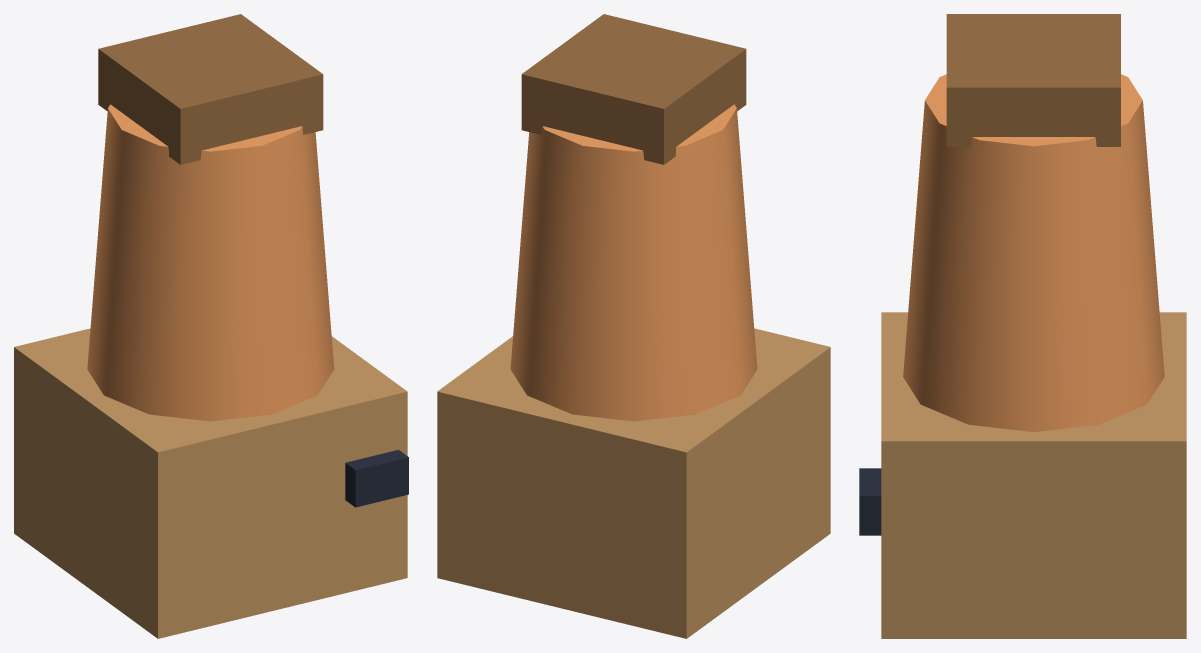
Rendered from smoothie_blender.glb.
3 views of the same model, side by side, from view 1: azimuth 30°, elevation 25°; view 2: azimuth 150°, elevation 25°; view 3: azimuth 270°, elevation 25° (orthographic). The views are drawn at different scales.
Visible parts, largest first — view 1: smoothie_blender; view 2: smoothie_blender; view 3: smoothie_blender.
Part boxes in pixels (x1,y1,x2,y2): smoothie_blender: (14, 14, 408, 638); smoothie_blender: (437, 14, 830, 638); smoothie_blender: (859, 14, 1186, 638).
Size of the model in its own units: 14 by 26.5 by 15.
